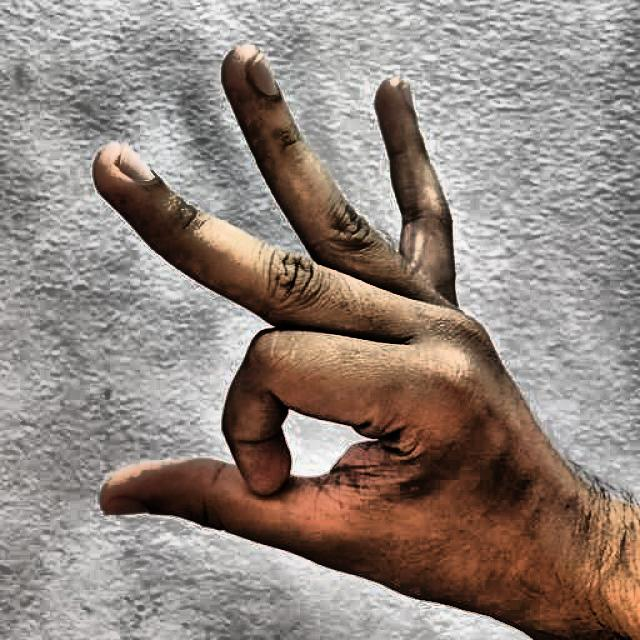Uo: (42, 24, 570, 629)
